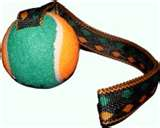tennis ball: (1, 11, 80, 88)
